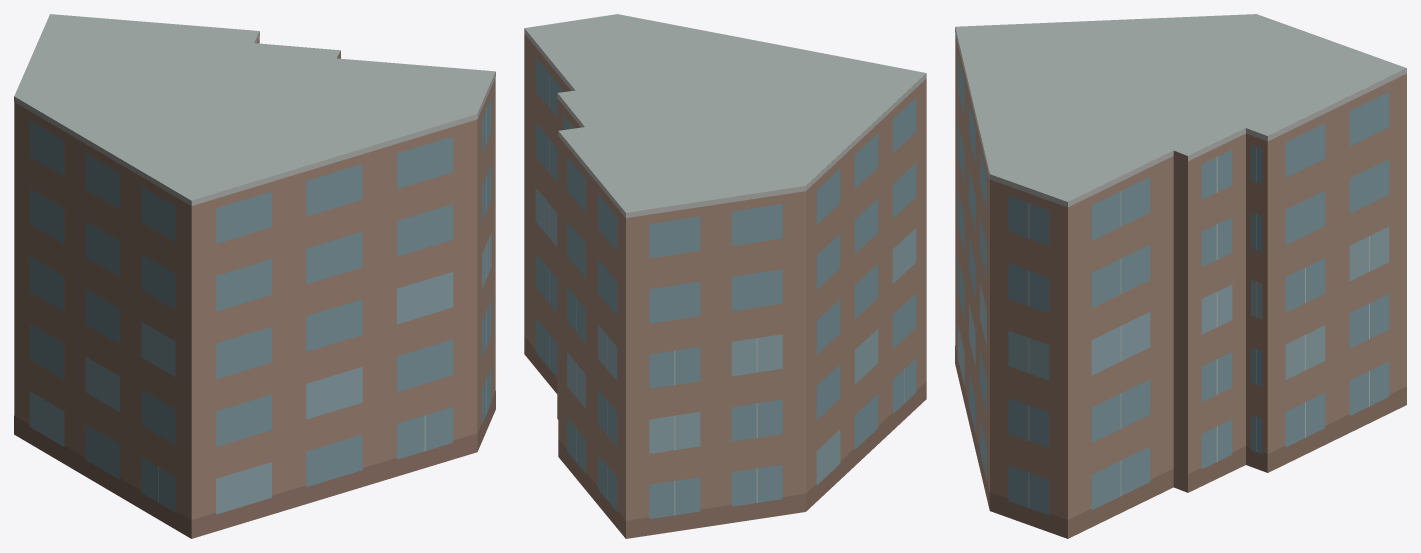
Rendered from survey-upis-32928263.glb.
The picture shows the model from 3 angles, left to right: view 1: azimuth 30°, elevation 25°; view 2: azimuth 150°, elevation 25°; view 3: azimuth 270°, elevation 25°; orthographic projection. The views are drawn at different scales.
Parts seen in each view (by area): view 1: survey-upis-32928263.tmp; view 2: survey-upis-32928263.tmp; view 3: survey-upis-32928263.tmp.
Part boxes in pixels (x1,y1,x2,y2): survey-upis-32928263.tmp: (14,14,495,538); survey-upis-32928263.tmp: (524,14,926,538); survey-upis-32928263.tmp: (955,14,1406,538).
Size of the model in its own units: 18.27 by 15.25 by 18.54.
